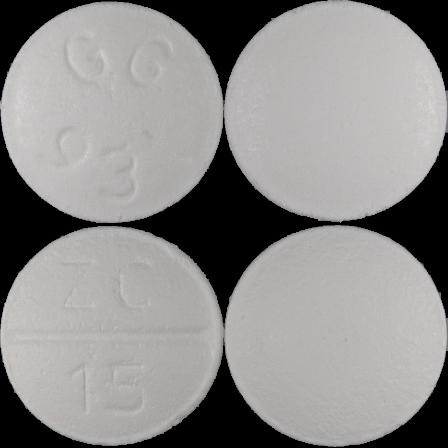33261-088: (0, 0, 224, 224)
